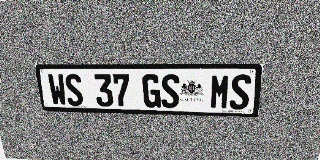3: (94, 74, 114, 107)
7: (111, 74, 131, 107)
G: (142, 74, 161, 108)
M: (209, 74, 231, 109)
S: (229, 74, 252, 110), (64, 74, 84, 106), (161, 74, 179, 108)
W: (47, 74, 68, 106)
